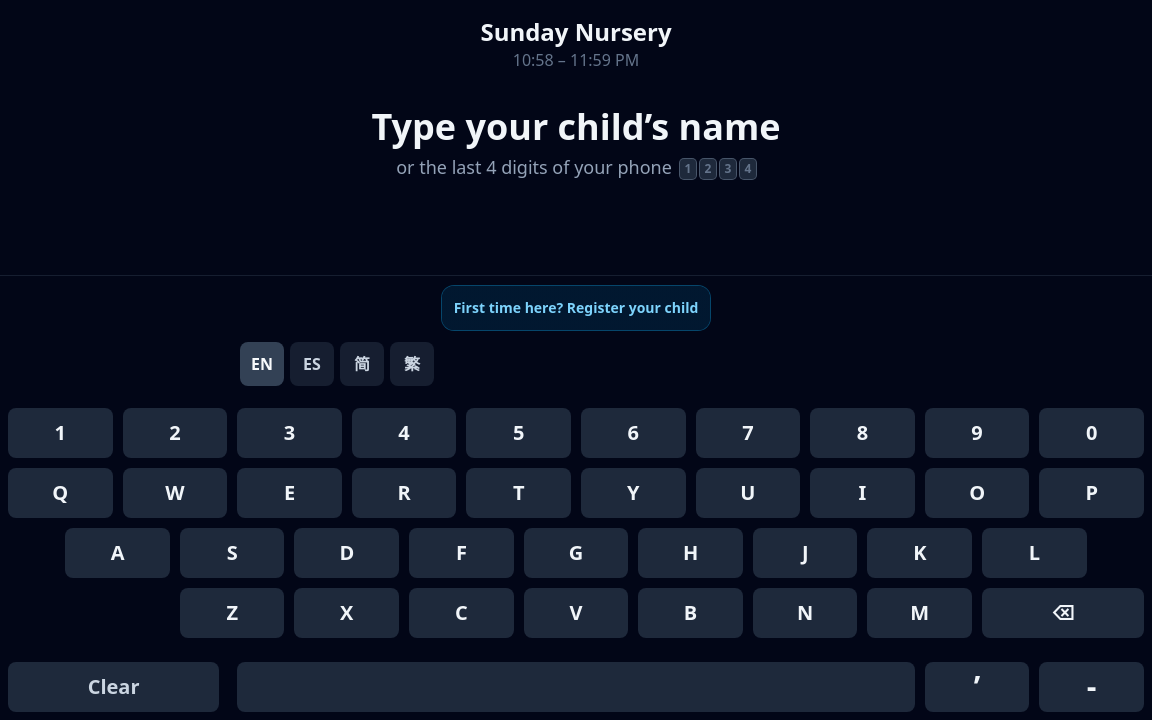
Test case: checking a family in together › offers nothing beside a child who is already checked in
Press the mouse on the button "0" at (1092, 433), box [1039, 408, 1144, 458]
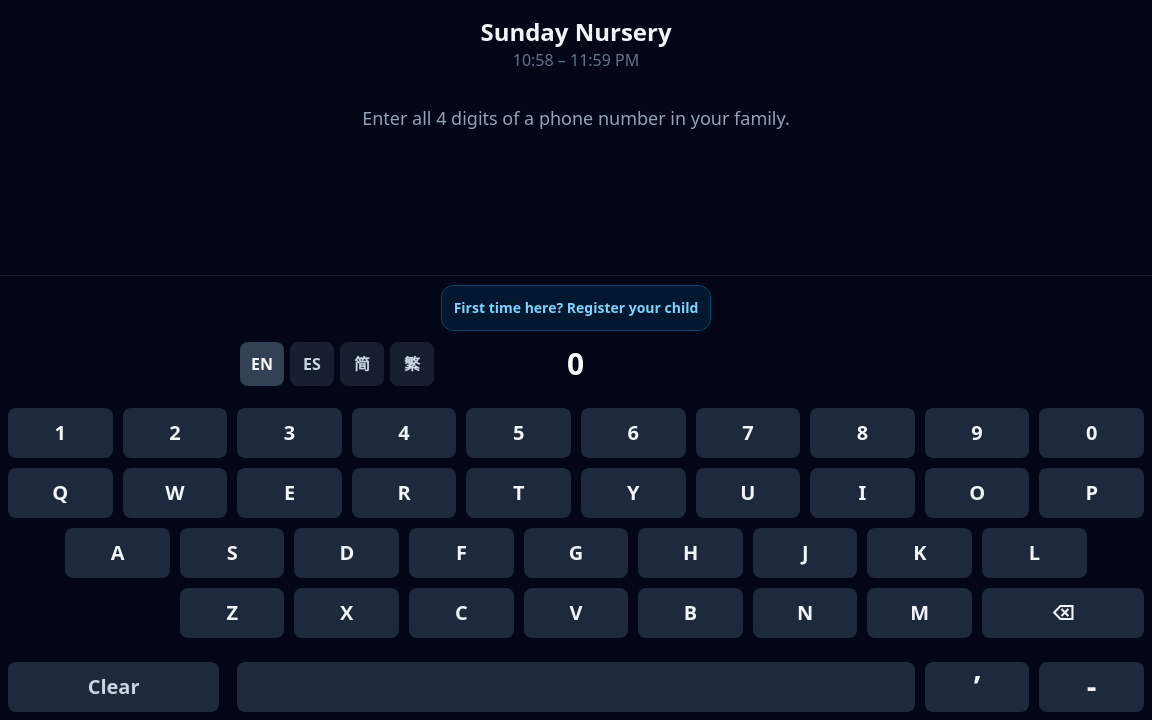
Press the mouse on the button "1" at (60, 433), box [8, 408, 113, 458]
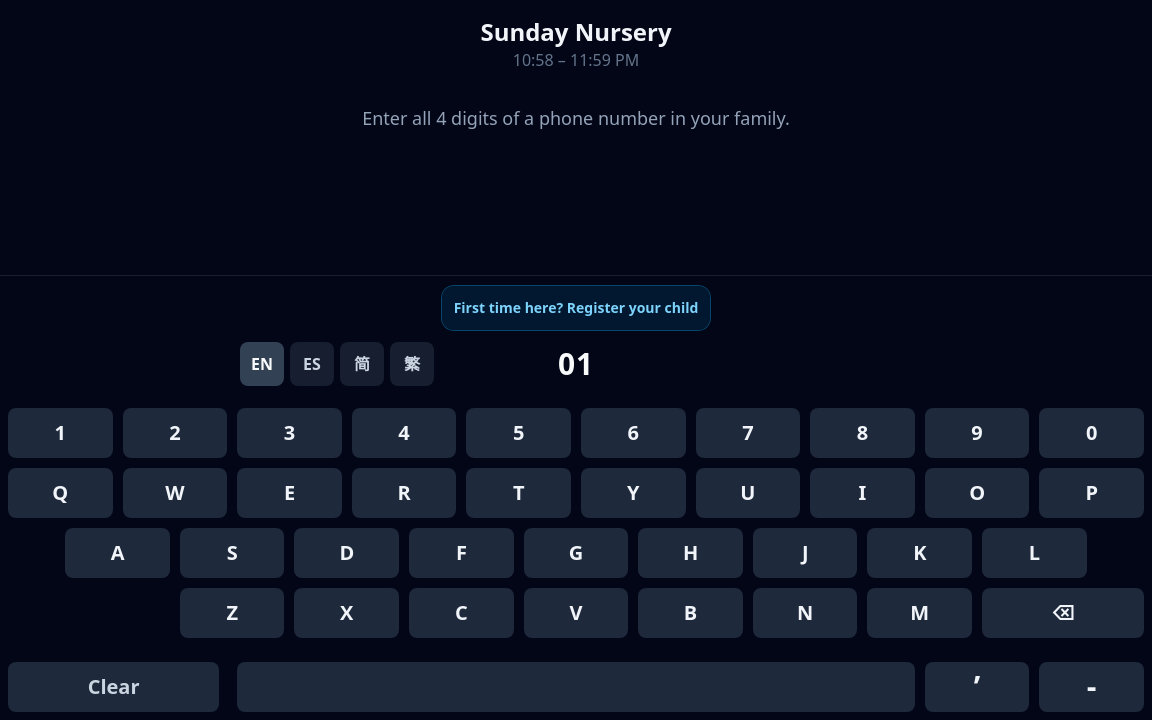
Press the mouse on the button "3" at (290, 433), box [237, 408, 342, 458]
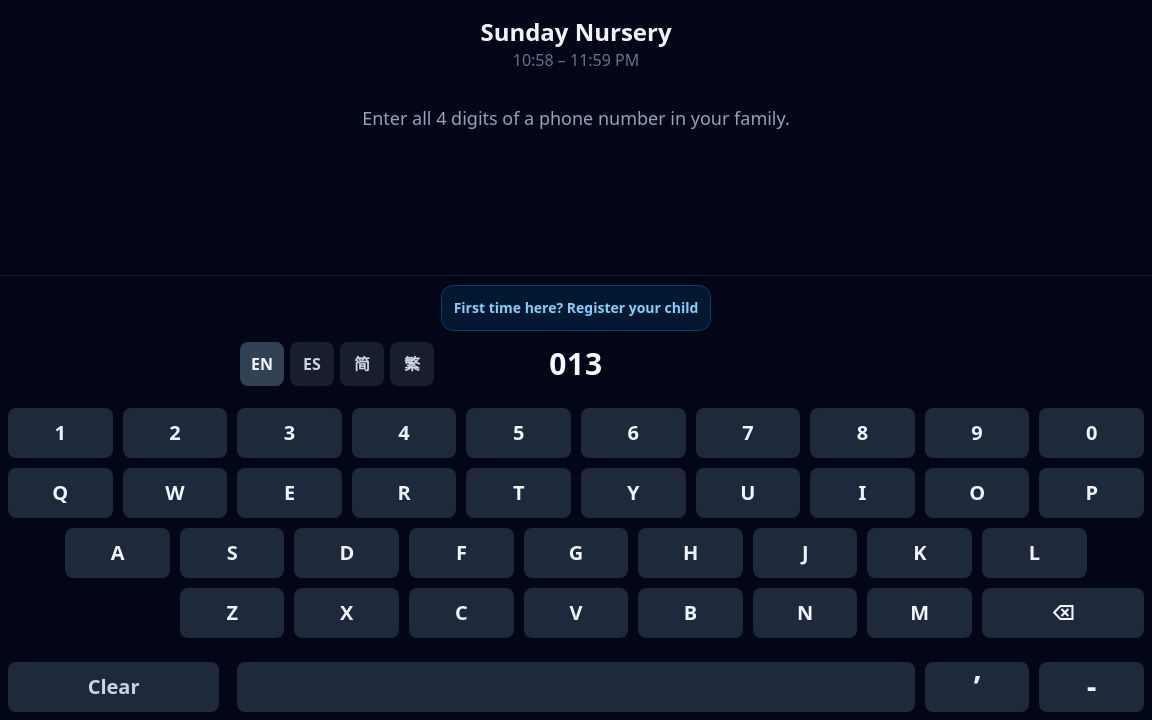
Press the mouse on the button "4" at (404, 433), box [352, 408, 456, 458]
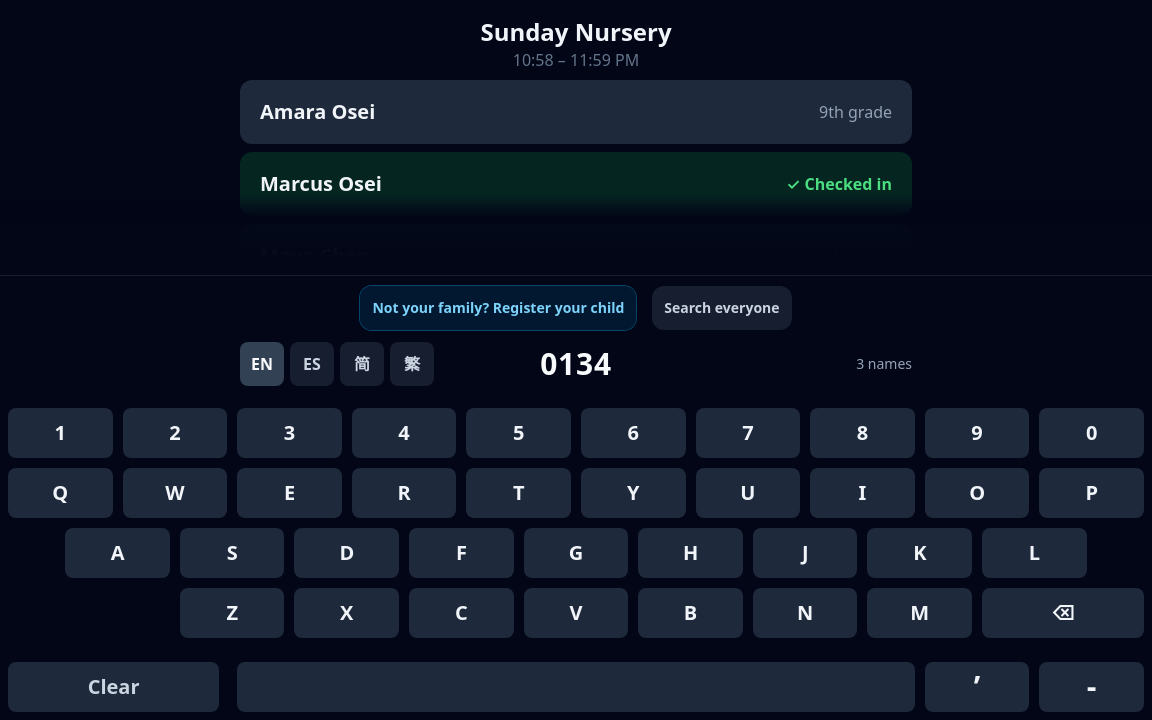
Press the mouse on the button "Marcus Osei ✓ Checked in" at (296, 184), box [240, 152, 912, 216]
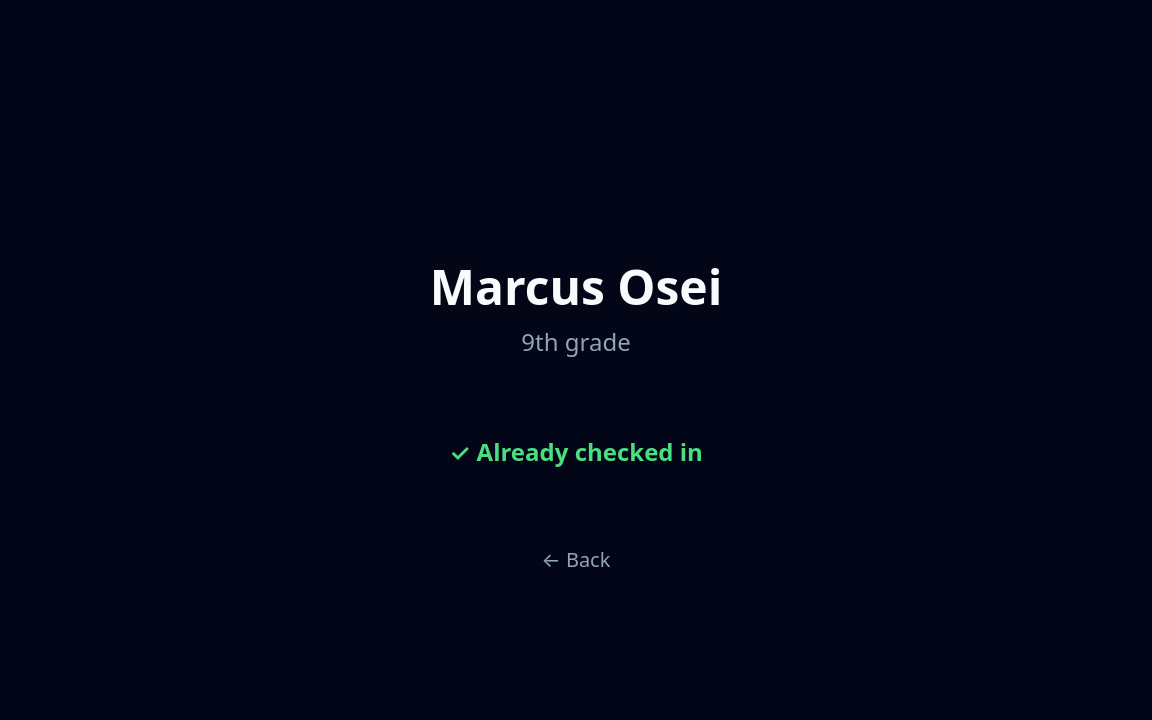
expect the text "✓ Already checked in" is shown: met, box [449, 435, 703, 468]
